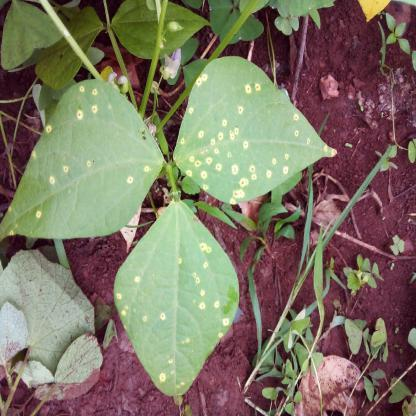Beans_Rust: (0, 77, 162, 238), (172, 56, 340, 204), (112, 207, 242, 398)
